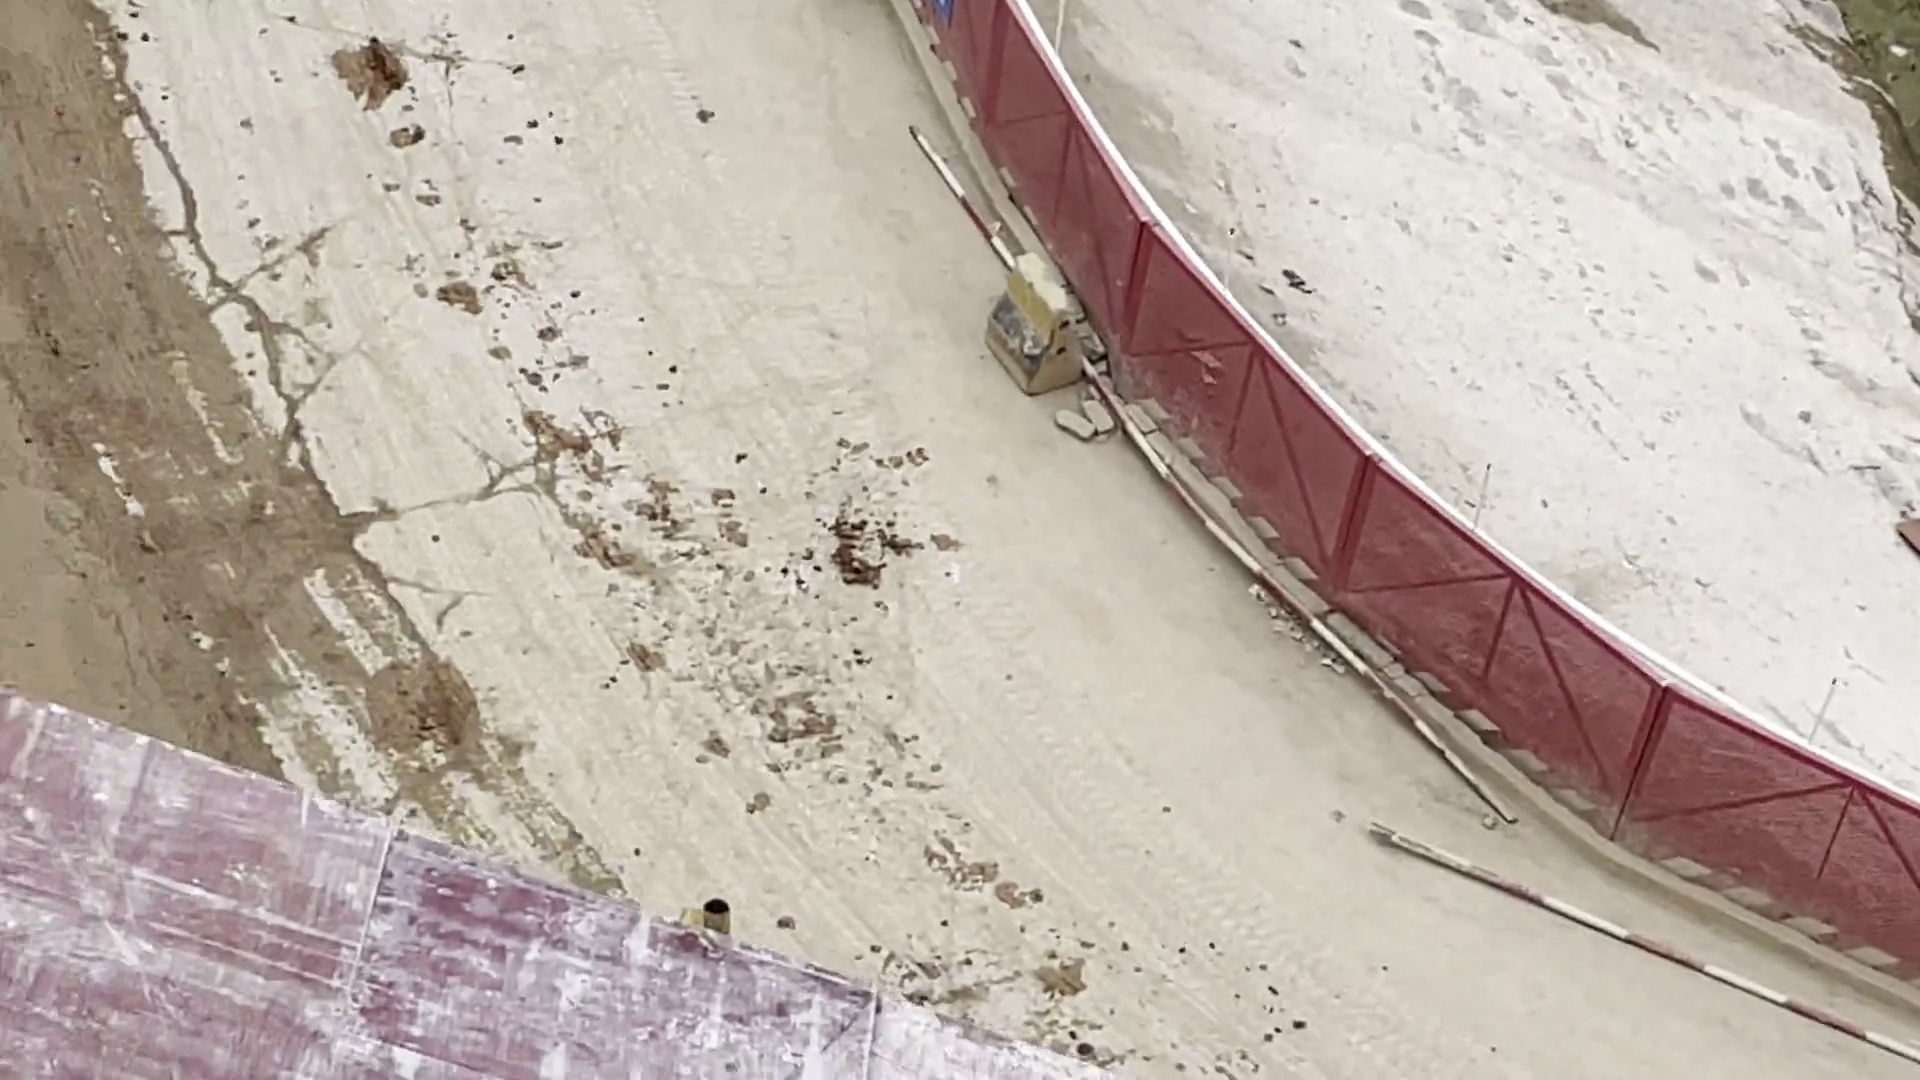fence: (1120, 219, 1650, 880), (895, 5, 1146, 397), (1629, 688, 1920, 1000)
